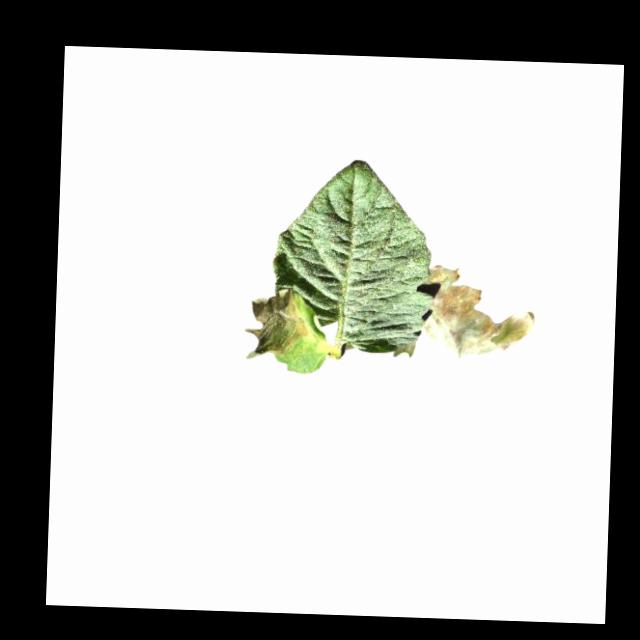Late_blight: (420, 264, 537, 362), (244, 288, 310, 362)
healthy: (268, 157, 436, 355)
